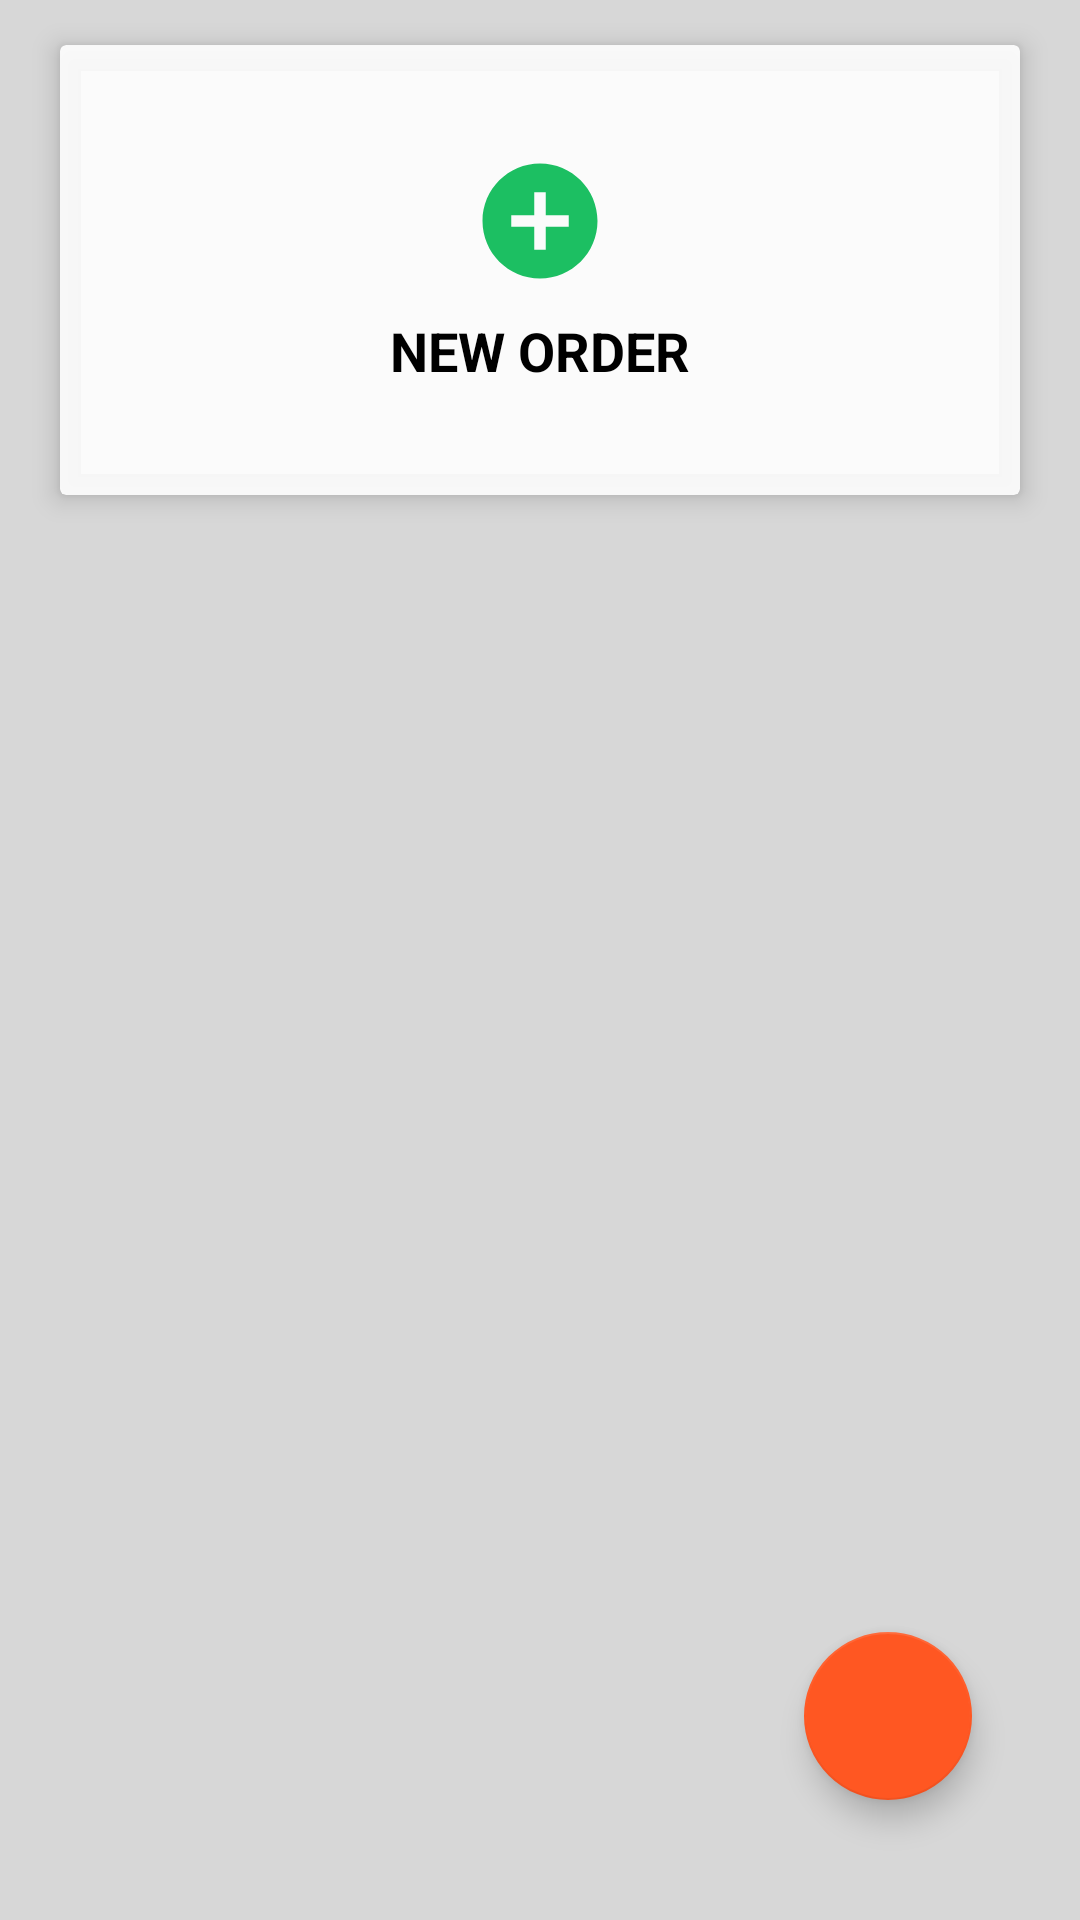

Icons on this 1080px x 1920px Android screen, each with the point to tap as (x=x, y=y):
add bill vectorasset: (x=540, y=221)
